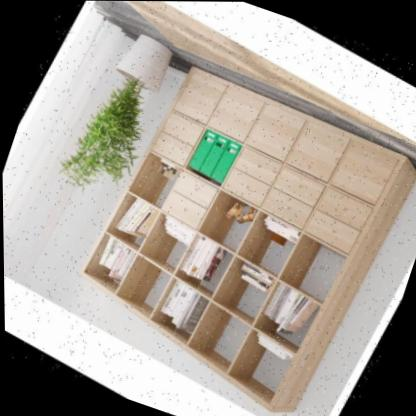Shelf: (44, 20, 416, 416)
